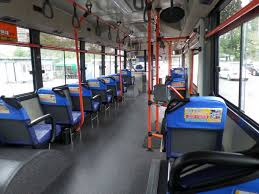seat: (2, 92, 64, 151)
